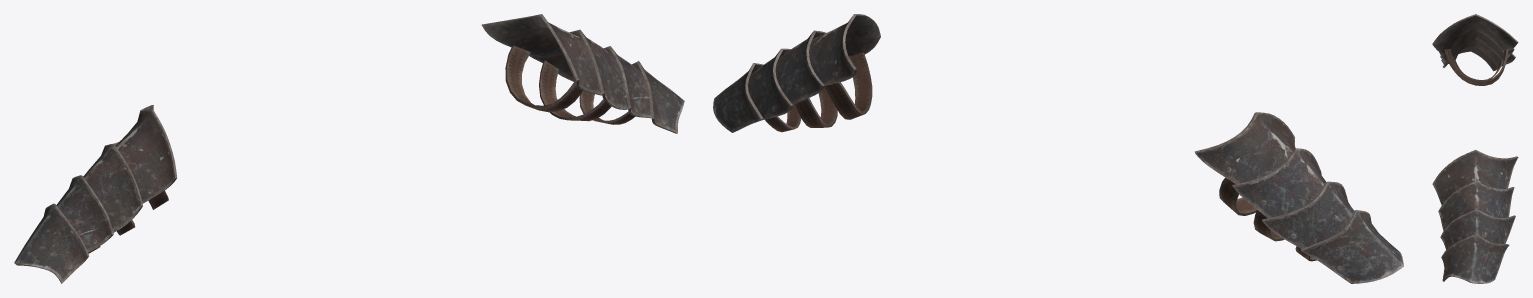
The model's file is sk_dg_uruk_bracer_elite_a.fbx.
The picture shows the model from 3 angles, left to right: view 1: azimuth 30°, elevation 25°; view 2: azimuth 150°, elevation 25°; view 3: azimuth 270°, elevation 25°; orthographic projection. The views are drawn at different scales.
Visible parts, largest first — view 1: sk_dg_uruk_bracer_elite_a; view 2: sk_dg_uruk_bracer_elite_a; view 3: sk_dg_uruk_bracer_elite_a.
Boxes of the visible parts, box(x1,y1,x2,y2) form: sk_dg_uruk_bracer_elite_a: box(14, 14, 684, 283); sk_dg_uruk_bracer_elite_a: box(713, 14, 1403, 283); sk_dg_uruk_bracer_elite_a: box(1432, 14, 1518, 283).
Bounding box in the file's own units: 1.48 × 0.2322 × 0.2781.
1 material, 1 textured.
